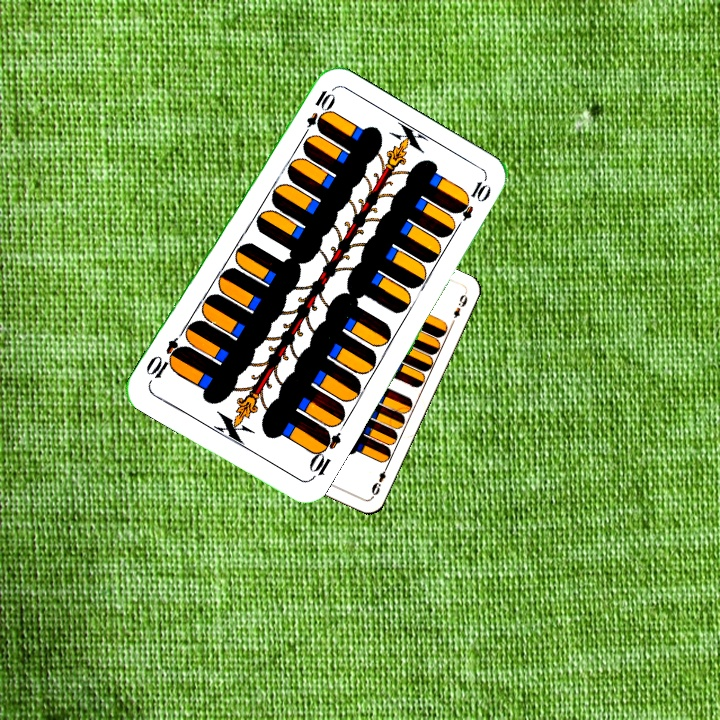E10: (305, 425, 344, 483), (298, 86, 337, 142)
E9: (367, 461, 391, 498)
